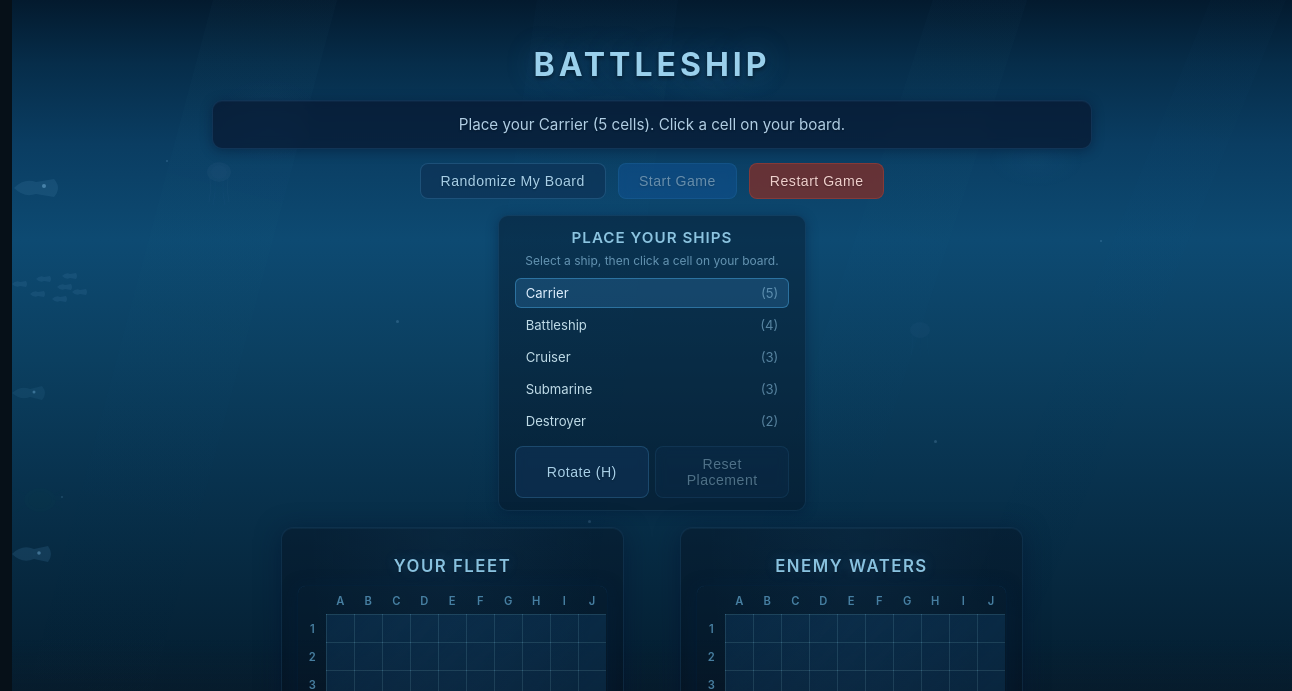
App integration › randomize and start › start game hides setup buttons
The width and height of the screenshot is (1292, 691).
Click the button "Randomize My Board": [513, 181] box [420,163,606,199]
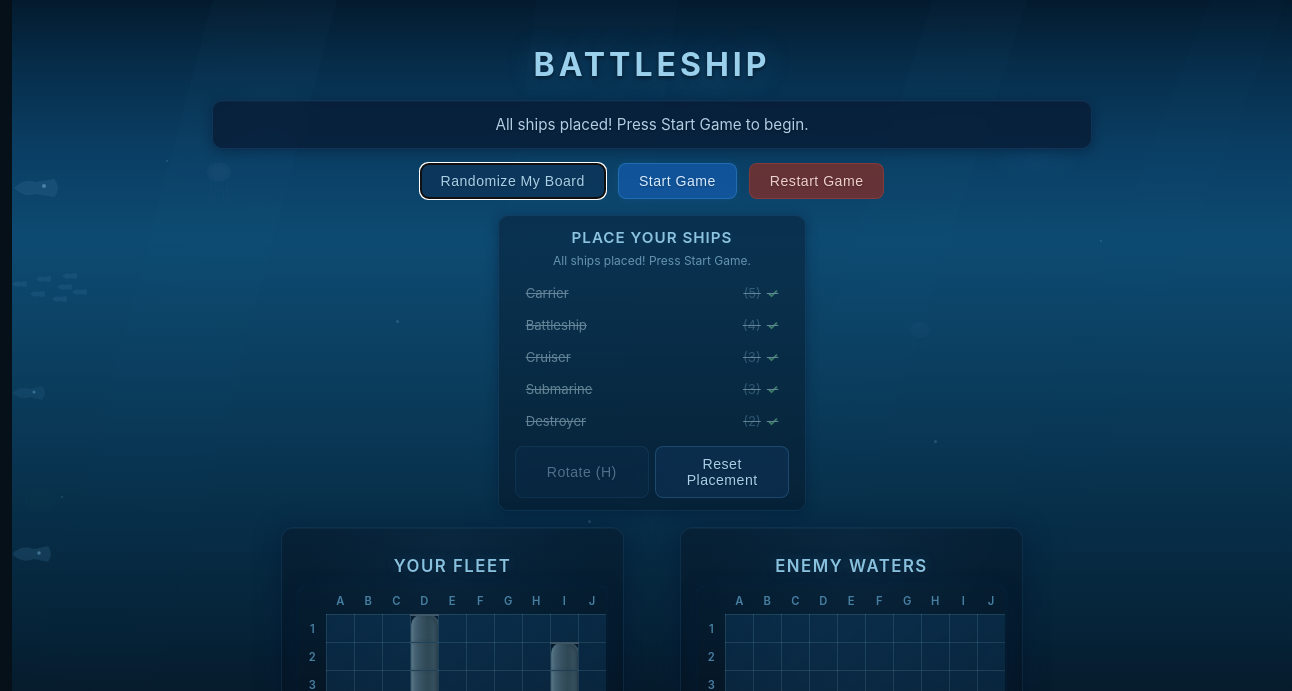
Click the button "Start Game": [677, 181] box [618,163,737,199]
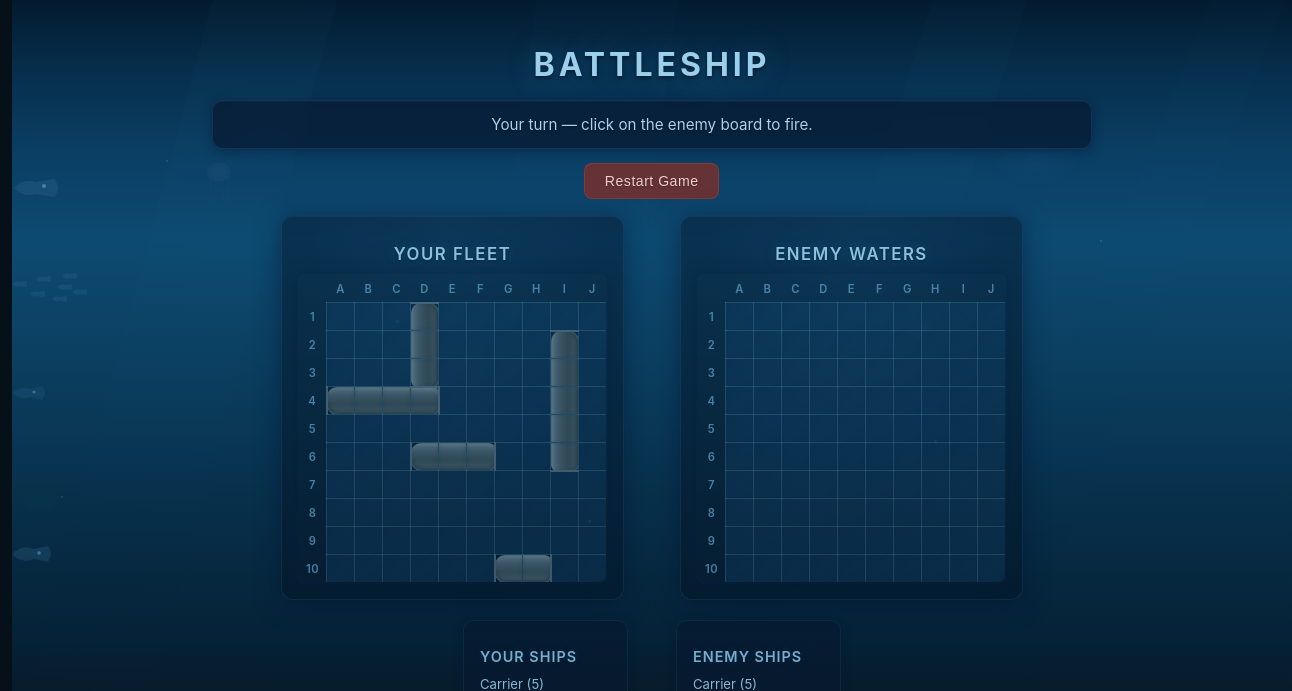
Expected: the button "Restart Game" is shown, [584,163,720,199]
Expected: the button "Randomize My Board" is gone
